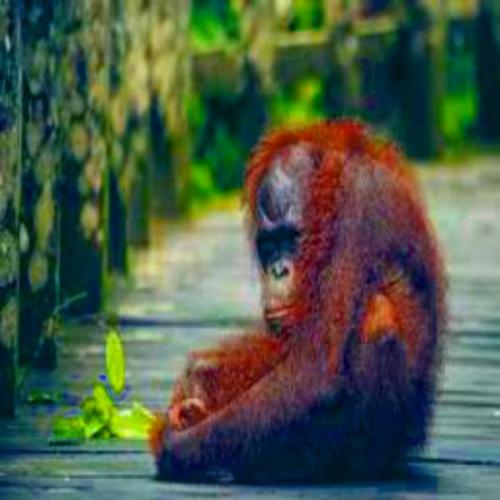orangutan-endangered: (152, 120, 448, 480)
